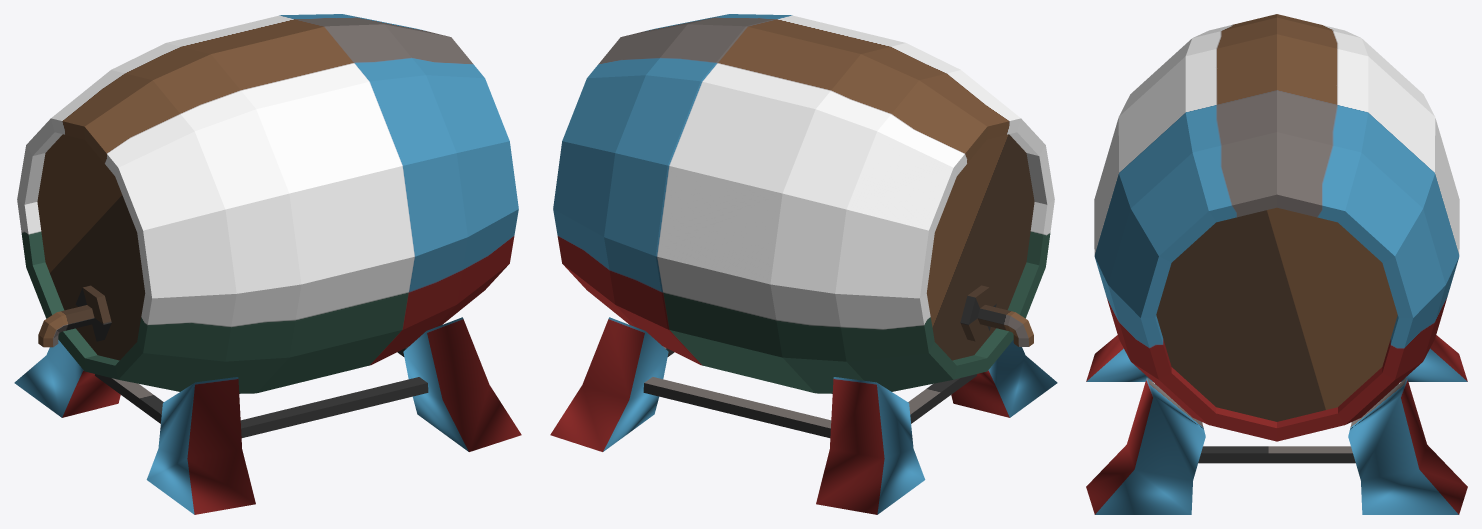
File: WineBarrel.fbx
The picture shows the model from 3 angles, left to right: view 1: azimuth 30°, elevation 25°; view 2: azimuth 150°, elevation 25°; view 3: azimuth 270°, elevation 25°; orthographic projection.
Parts seen in each view (by area): view 1: WineBarrel; view 2: WineBarrel; view 3: WineBarrel.
Boxes of the visible parts, left/top/right/bottom form: WineBarrel: left=14, top=14, right=521, bottom=514; WineBarrel: left=550, top=14, right=1057, bottom=514; WineBarrel: left=1086, top=14, right=1467, bottom=514.
Size of the model in its own units: 0.3459 by 0.276 by 0.2968.
Materials: 1 (1 with a texture image).
